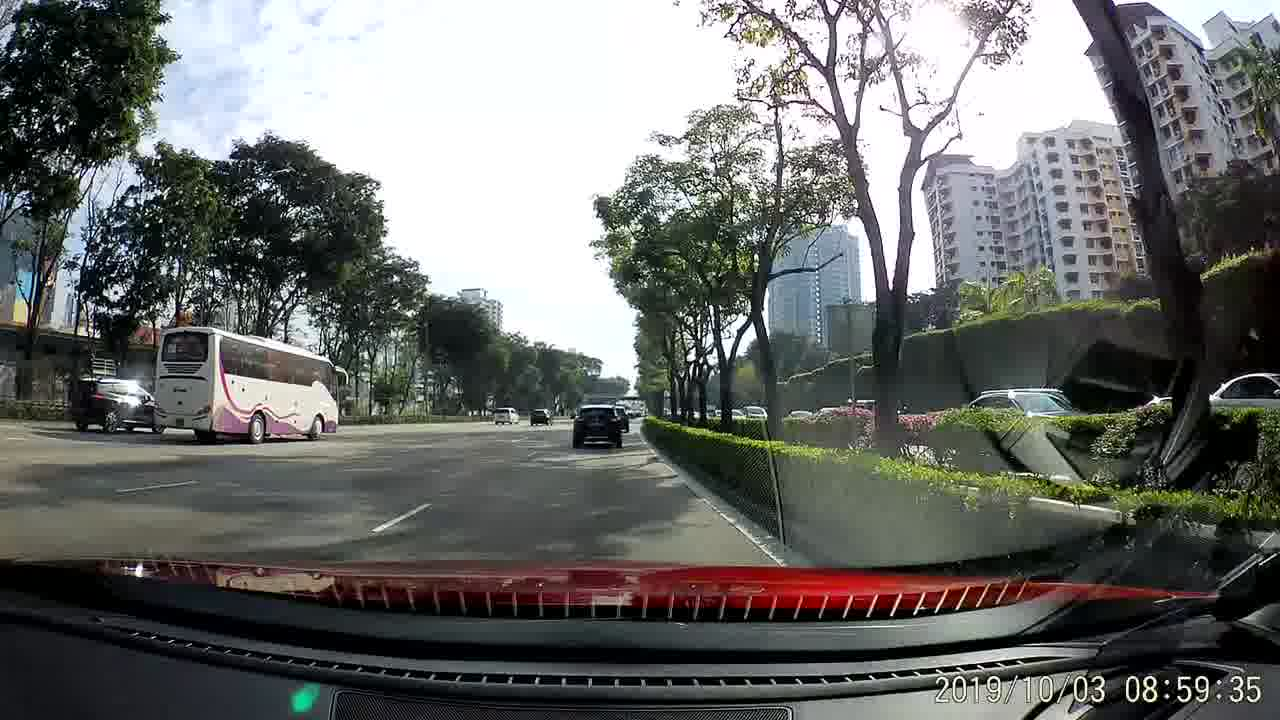bus: (148, 321, 350, 444)
car: (70, 374, 166, 434), (955, 383, 1092, 420), (1210, 365, 1276, 406), (571, 401, 624, 452), (492, 403, 523, 427), (529, 406, 554, 425)
